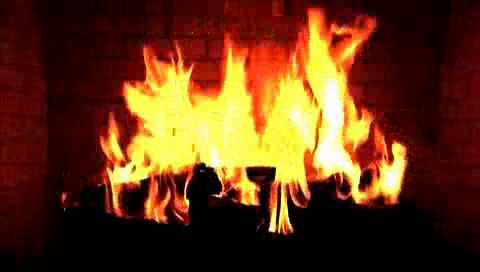fire: (113, 44, 396, 221)
